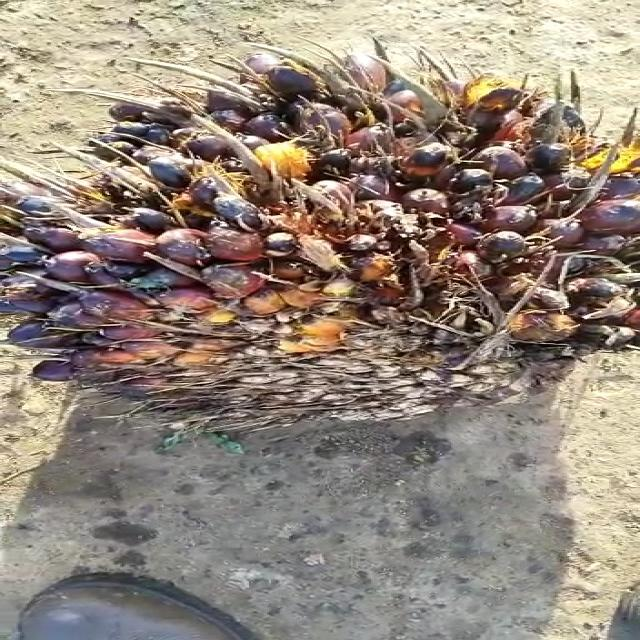palm oil: (0, 31, 640, 439)
